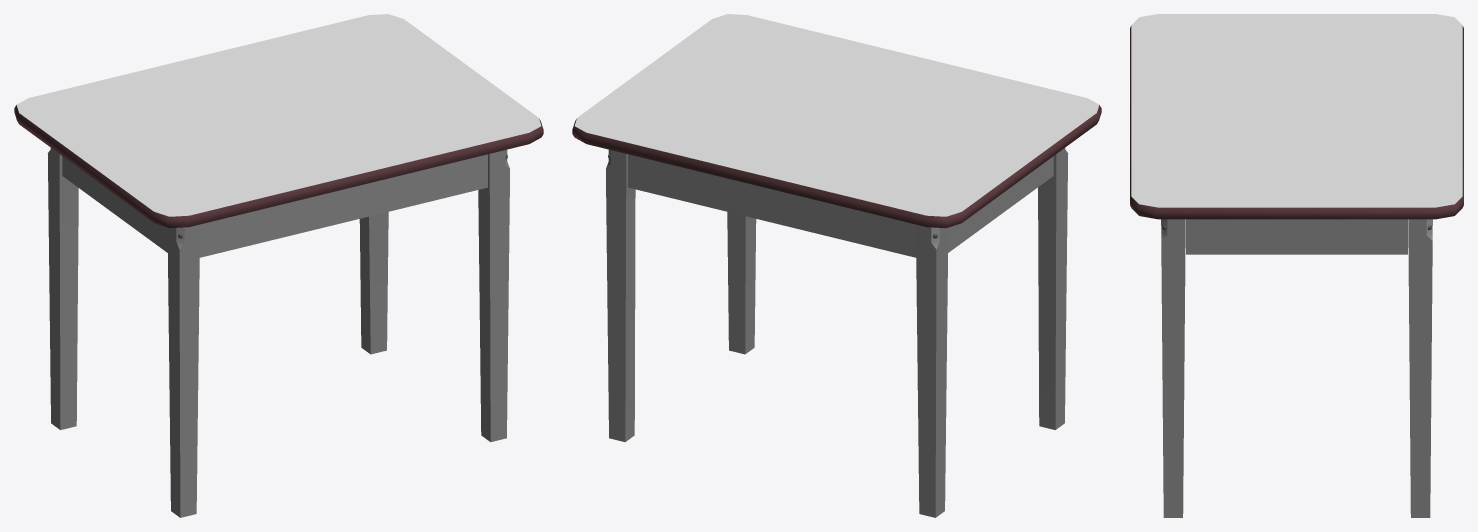
File: Table.fbx
The picture shows the model from 3 angles, left to right: view 1: azimuth 30°, elevation 25°; view 2: azimuth 150°, elevation 25°; view 3: azimuth 270°, elevation 25°; orthographic projection. The views are drawn at different scales.
Parts seen in each view (by area): view 1: Cube.005; view 2: Cube.005; view 3: Cube.005.
Boxes of the visible parts, box(x1,y1,x2,y2) form: Cube.005: box(14, 14, 543, 517); Cube.005: box(572, 14, 1101, 517); Cube.005: box(1130, 14, 1463, 517).
Size of the model in its own units: 86.37 by 67.1 by 62.47.
